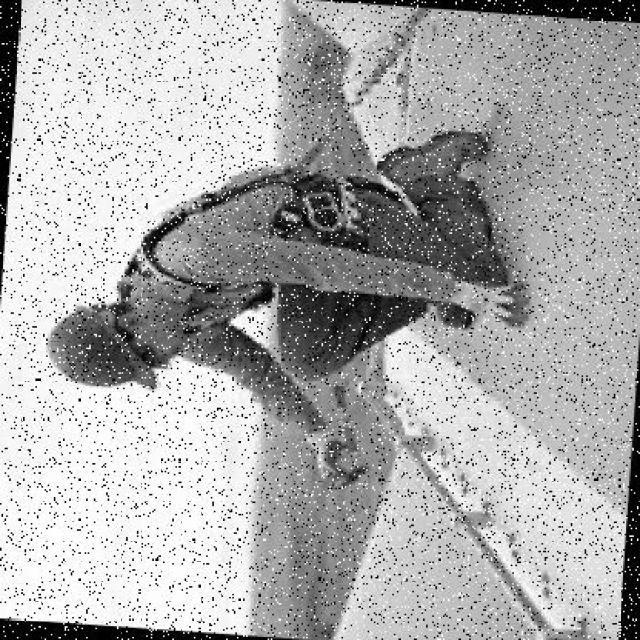Arnes_seguridad: (119, 155, 378, 348)
